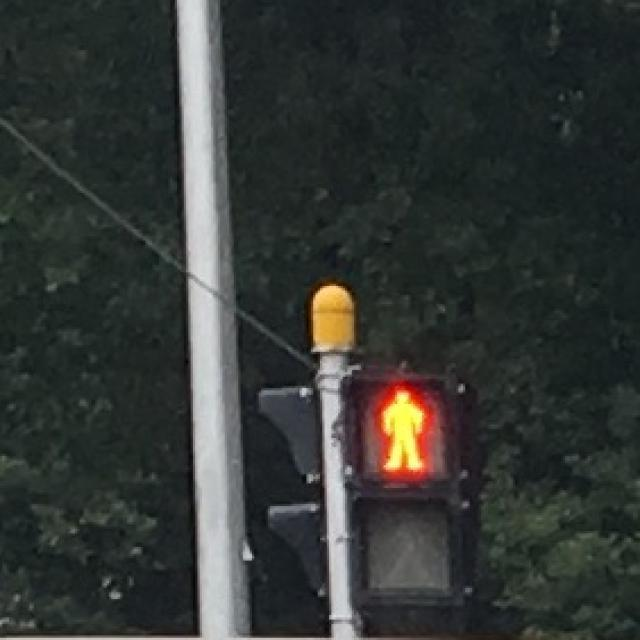red-crossing: (363, 381, 445, 479)
